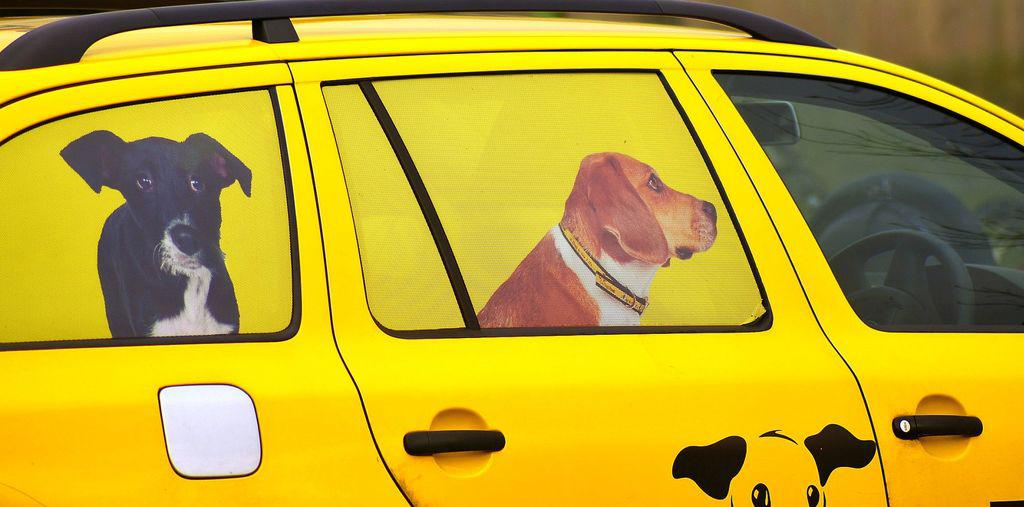taxi: (1, 1, 1024, 507)
